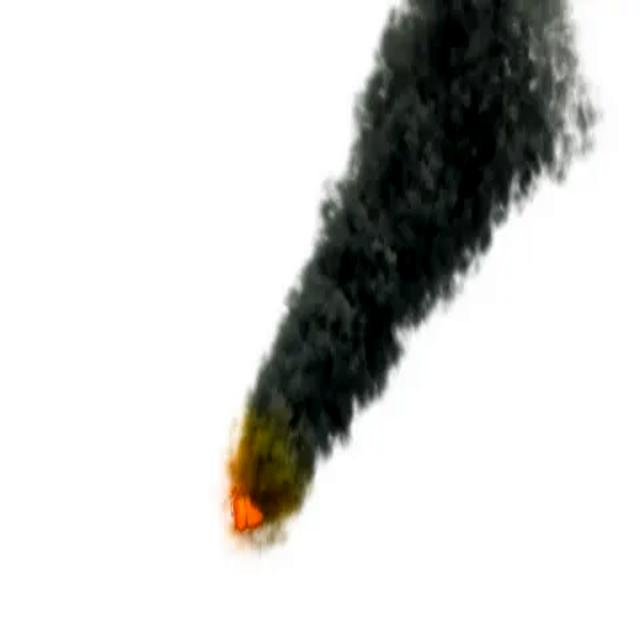Smoke: (228, 0, 598, 540)
